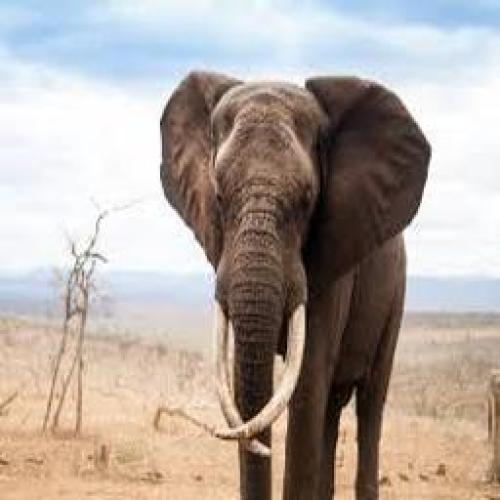african_elephant-endangered: (158, 71, 434, 500)
